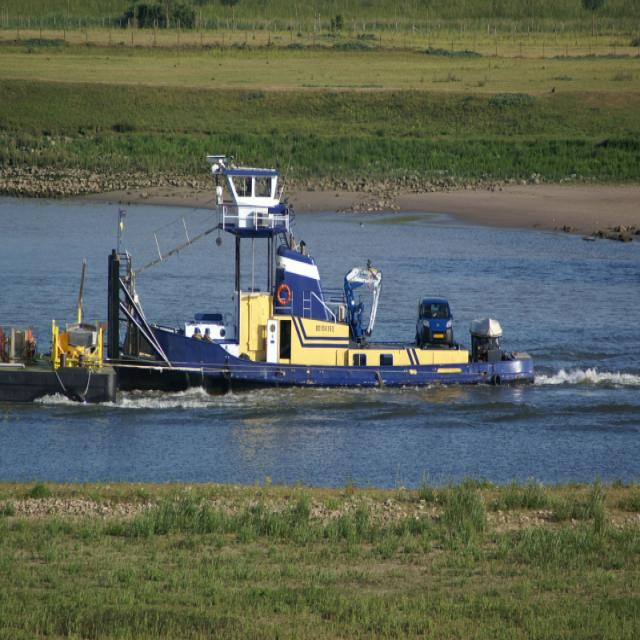tugboat: (96, 148, 538, 403)
